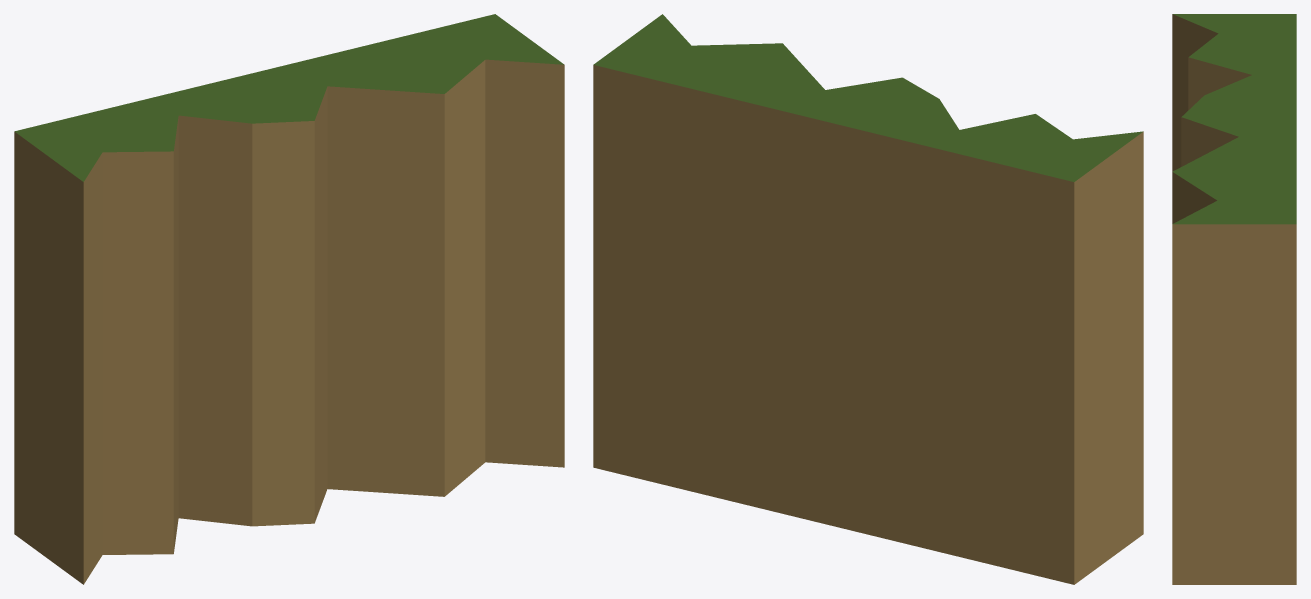
The model's file is Terrain_Modular_Tiles_Grass_Dirt_Cliff_Side_02.fbx.
3 renders of one model, left to right at view 1: azimuth 30°, elevation 25°; view 2: azimuth 150°, elevation 25°; view 3: azimuth 270°, elevation 25°, orthographic. The views are drawn at different scales.
Visible parts, largest first — view 1: Terrain_Modular_Tiles_Grass_Dirt_Cliff_Side_02; view 2: Terrain_Modular_Tiles_Grass_Dirt_Cliff_Side_02; view 3: Terrain_Modular_Tiles_Grass_Dirt_Cliff_Side_02.
Part boxes in pixels (x1,y1,x2,y2): Terrain_Modular_Tiles_Grass_Dirt_Cliff_Side_02: [14, 14, 564, 584]; Terrain_Modular_Tiles_Grass_Dirt_Cliff_Side_02: [593, 14, 1143, 584]; Terrain_Modular_Tiles_Grass_Dirt_Cliff_Side_02: [1172, 14, 1296, 584].
Bounding box in the file's own units: 3000 × 2400 × 750.
